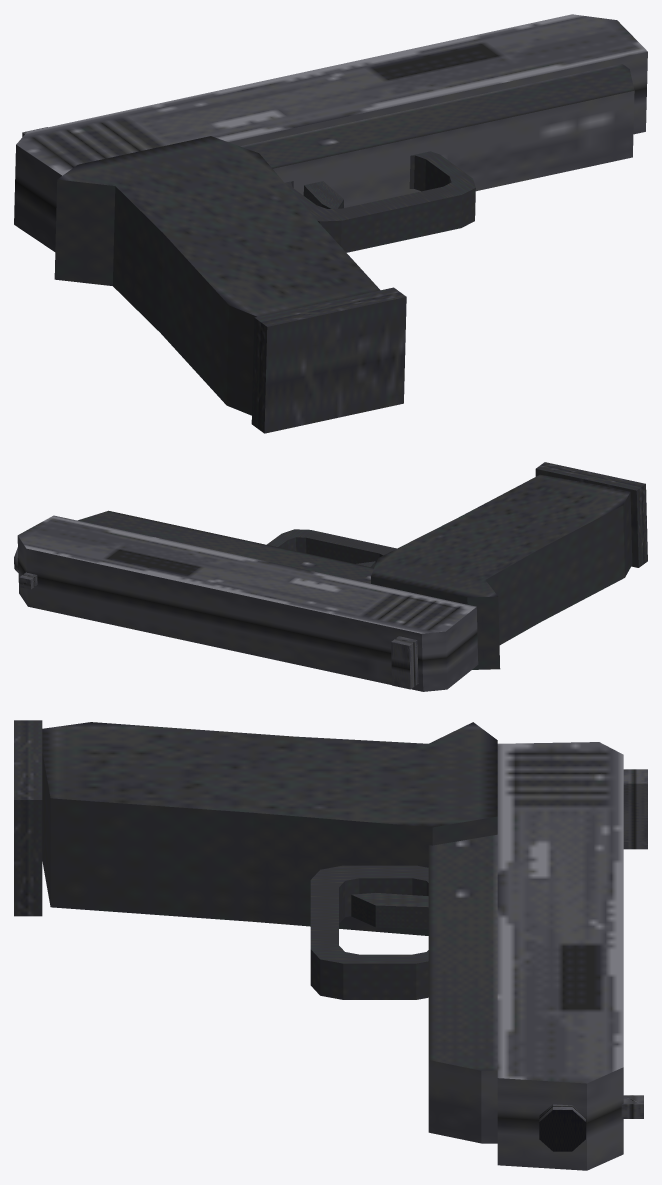
The model's file is pistol.obj.
The picture shows the model from 3 angles, top to bottom: view 1: azimuth 30°, elevation 25°; view 2: azimuth 150°, elevation 25°; view 3: azimuth 270°, elevation 25°; orthographic projection. The views are drawn at different scales.
Parts seen in each view (by area): view 1: pistol; view 2: pistol; view 3: pistol.
Boxes of the visible parts, bbox=[...] form: pistol: bbox=[14, 14, 647, 433]; pistol: bbox=[14, 462, 647, 691]; pistol: bbox=[14, 720, 647, 1170].
Bounding box in the file's own units: 0.1955 × 0.0332 × 0.156.
Materials: 1 (1 with a texture image).
